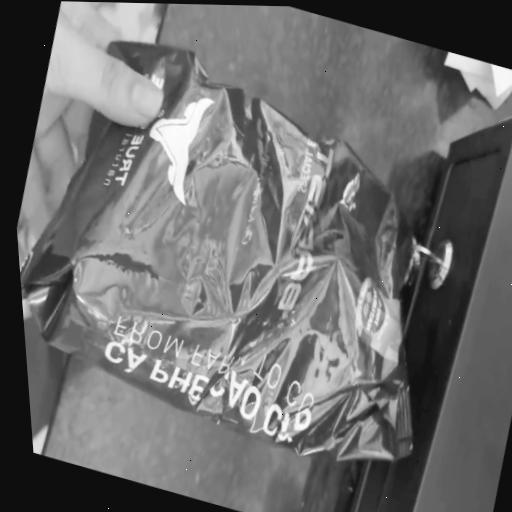cafe_hat: (20, 41, 414, 460)
